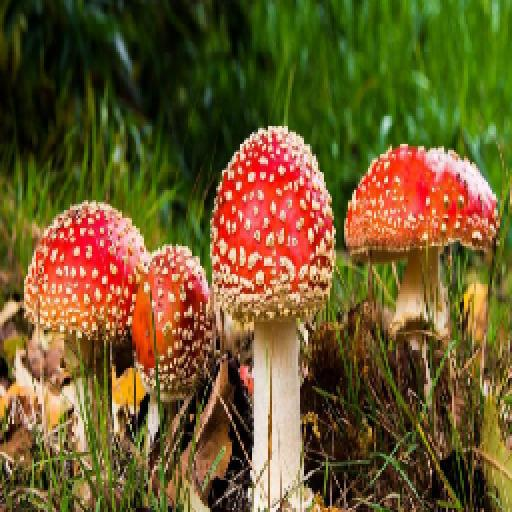mushrooms: (212, 127, 336, 512), (346, 146, 499, 386), (24, 204, 150, 471), (126, 245, 218, 403)
